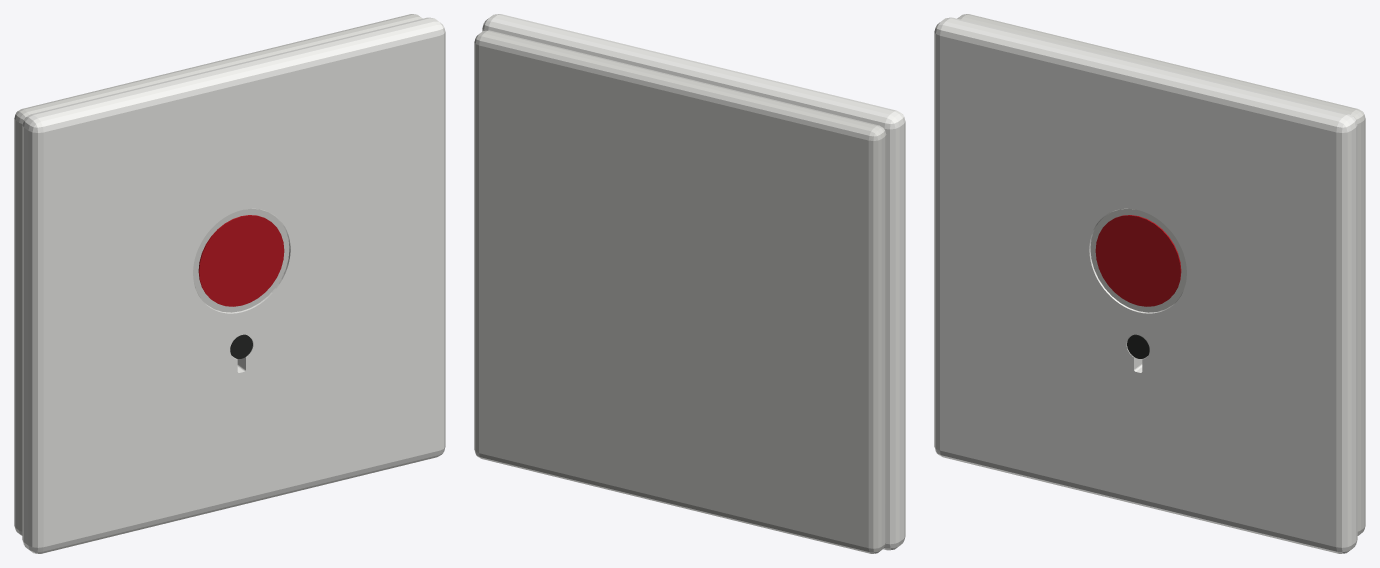
File: bell.glb
The picture shows the model from 3 angles, left to right: view 1: azimuth 30°, elevation 25°; view 2: azimuth 150°, elevation 25°; view 3: azimuth 330°, elevation 25°; orthographic projection.
Visible parts, largest first — view 1: bell:face, bell:rear-plate, bell:red-call-button, bell:call-surround; view 2: bell:rear-plate, bell:face; view 3: bell:face, bell:rear-plate, bell:red-call-button, bell:call-surround.
Boxes of the visible parts, box(x1,y1,x2,y2) form: bell:face: box(22, 17, 445, 553); bell:rear-plate: box(14, 14, 422, 535); bell:red-call-button: box(198, 215, 284, 306); bell:call-surround: box(193, 208, 289, 312); bell:rear-plate: box(474, 30, 886, 553); bell:face: box(482, 14, 905, 550); bell:face: box(934, 17, 1357, 553); bell:rear-plate: box(957, 14, 1365, 535); bell:red-call-button: box(1095, 215, 1181, 306); bell:call-surround: box(1090, 208, 1186, 312).
Bounding box in the file's own units: 0.086 × 0.086 × 0.01.
